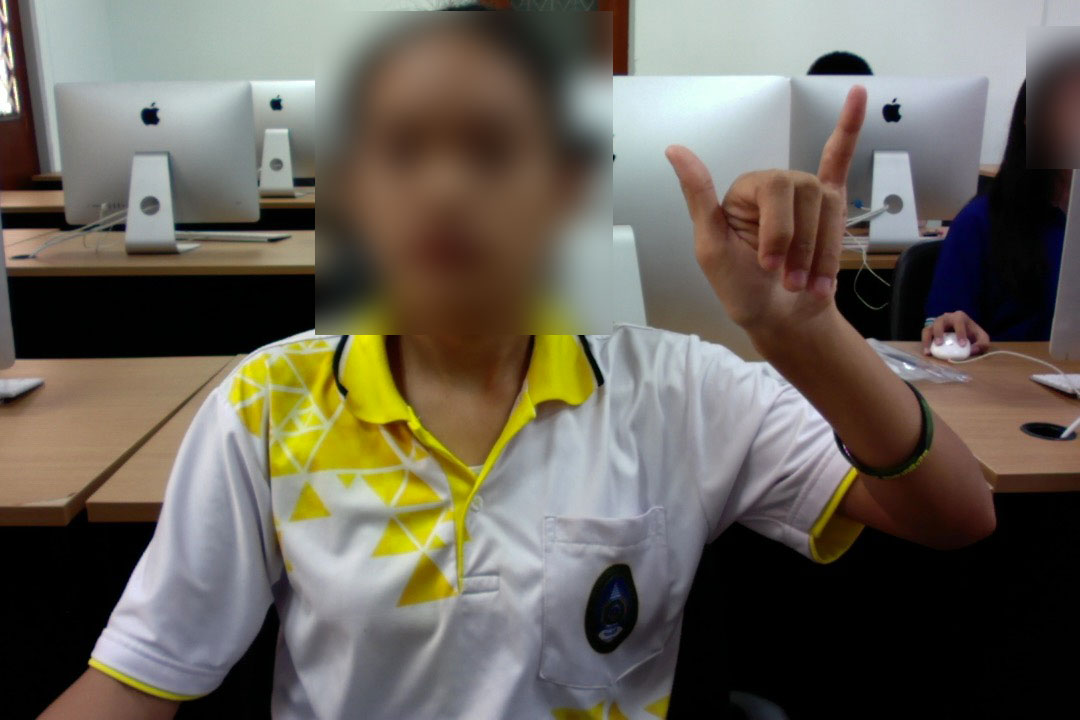yor: (654, 74, 882, 354)
